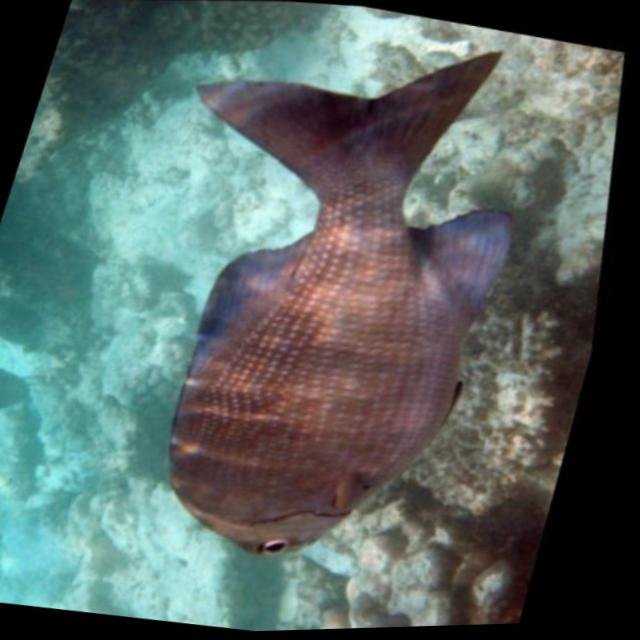Dead Coral: (0, 16, 325, 612), (300, 423, 583, 632)
